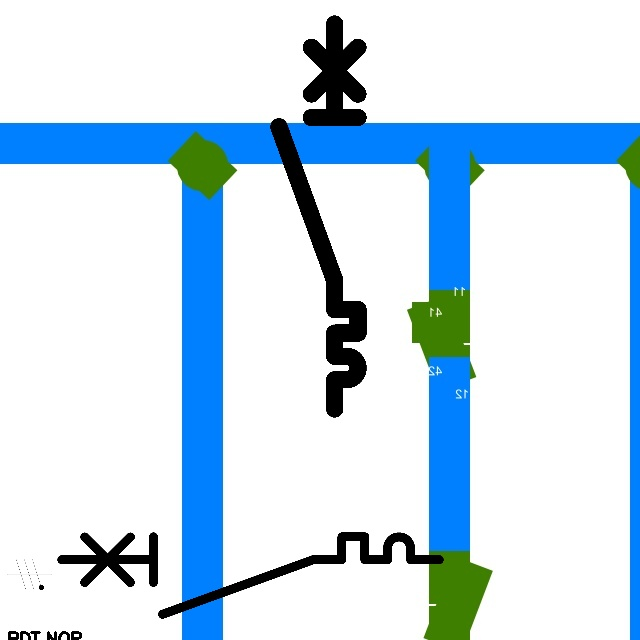interruptor_termomagnetico: (269, 14, 368, 419), (51, 527, 448, 624)
